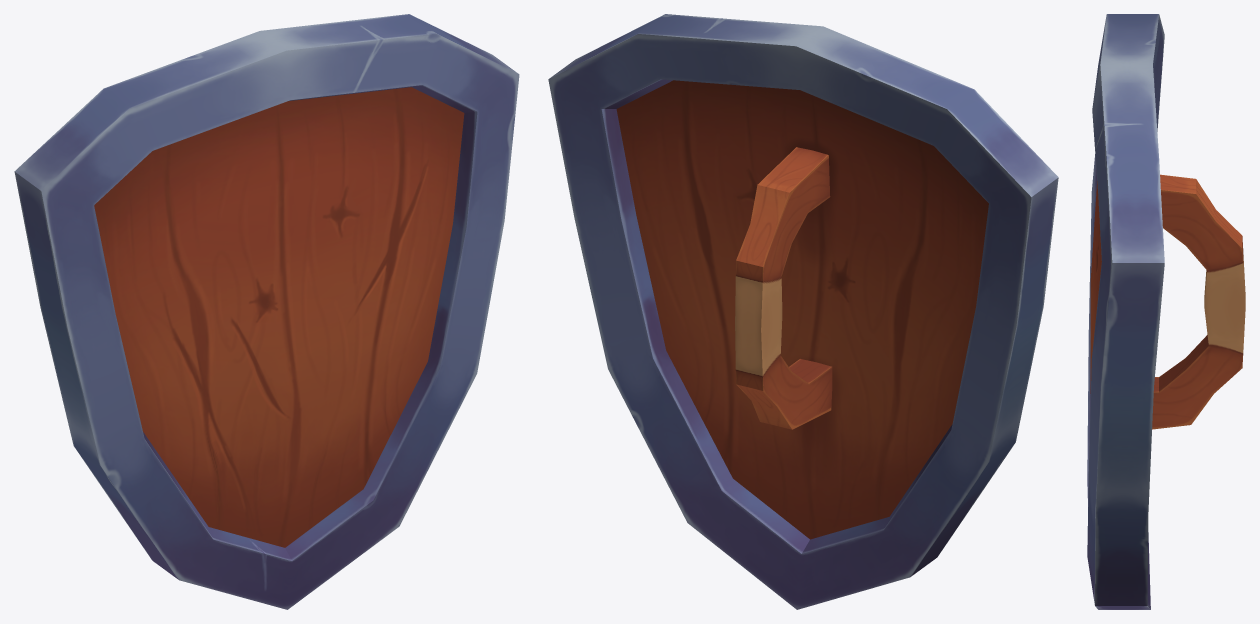
The model's file is shield.glb.
3 renders of one model, left to right at view 1: azimuth 30°, elevation 25°; view 2: azimuth 150°, elevation 25°; view 3: azimuth 270°, elevation 25°, orthographic. The views are drawn at different scales.
Visible parts, largest first — view 1: Shield; view 2: Shield; view 3: Shield.
Boxes of the visible parts, x1=… form: Shield: x1=14, y1=14, x2=519, y2=609; Shield: x1=548, y1=14, x2=1058, y2=609; Shield: x1=1087, y1=14, x2=1245, y2=609.
Size of the model in its own units: 1.95 by 2.18 by 0.5734.
1 material, 1 textured.
